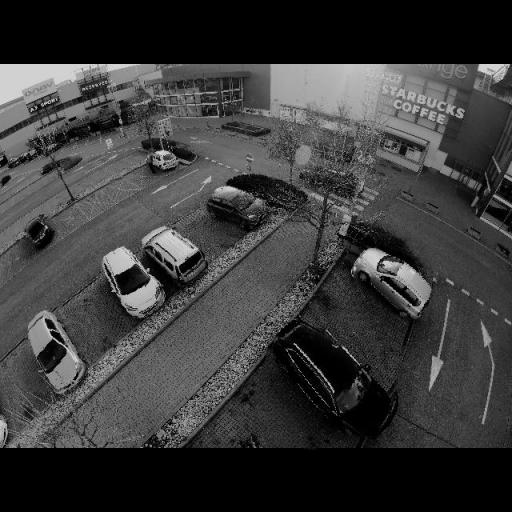busy: (258, 325, 401, 435), (351, 248, 438, 318), (95, 243, 167, 319), (25, 306, 87, 392), (141, 225, 208, 287), (206, 187, 268, 229), (24, 217, 58, 247), (146, 150, 180, 174), (173, 148, 198, 164), (10, 156, 26, 168)
free: (252, 402, 322, 449), (68, 293, 120, 344), (328, 307, 387, 346), (195, 222, 229, 244), (107, 175, 130, 203), (8, 240, 29, 270), (58, 210, 82, 232), (83, 193, 106, 213), (132, 168, 148, 187), (176, 180, 198, 193)
